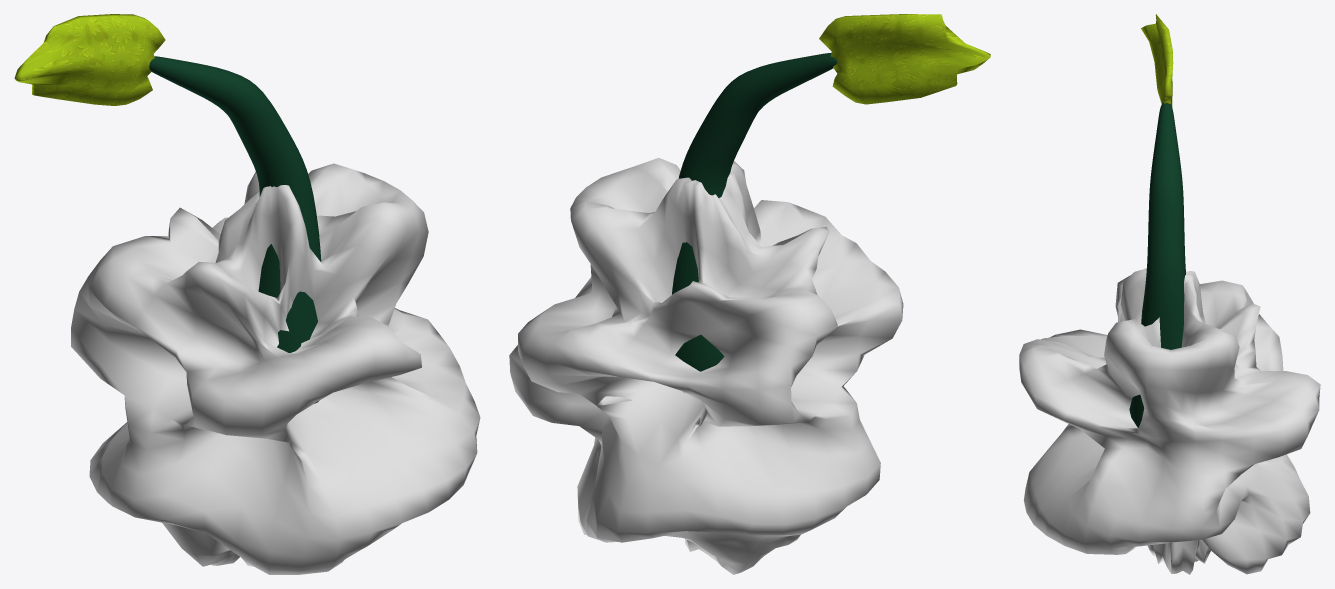
The model's file is oka2.fbx.
3 views of the same model, side by side, from view 1: azimuth 30°, elevation 25°; view 2: azimuth 150°, elevation 25°; view 3: azimuth 270°, elevation 25° (orthographic). The views are drawn at different scales.
Visible parts, largest first — view 1: Sphere.002; view 2: Sphere.002; view 3: Sphere.002.
Boxes of the visible parts, x1,y1,x2,y2 form: Sphere.002: [14, 14, 480, 574]; Sphere.002: [509, 14, 990, 574]; Sphere.002: [1019, 14, 1320, 574].
Bounding box in the file's own units: 39.75 × 49.47 × 28.49.
